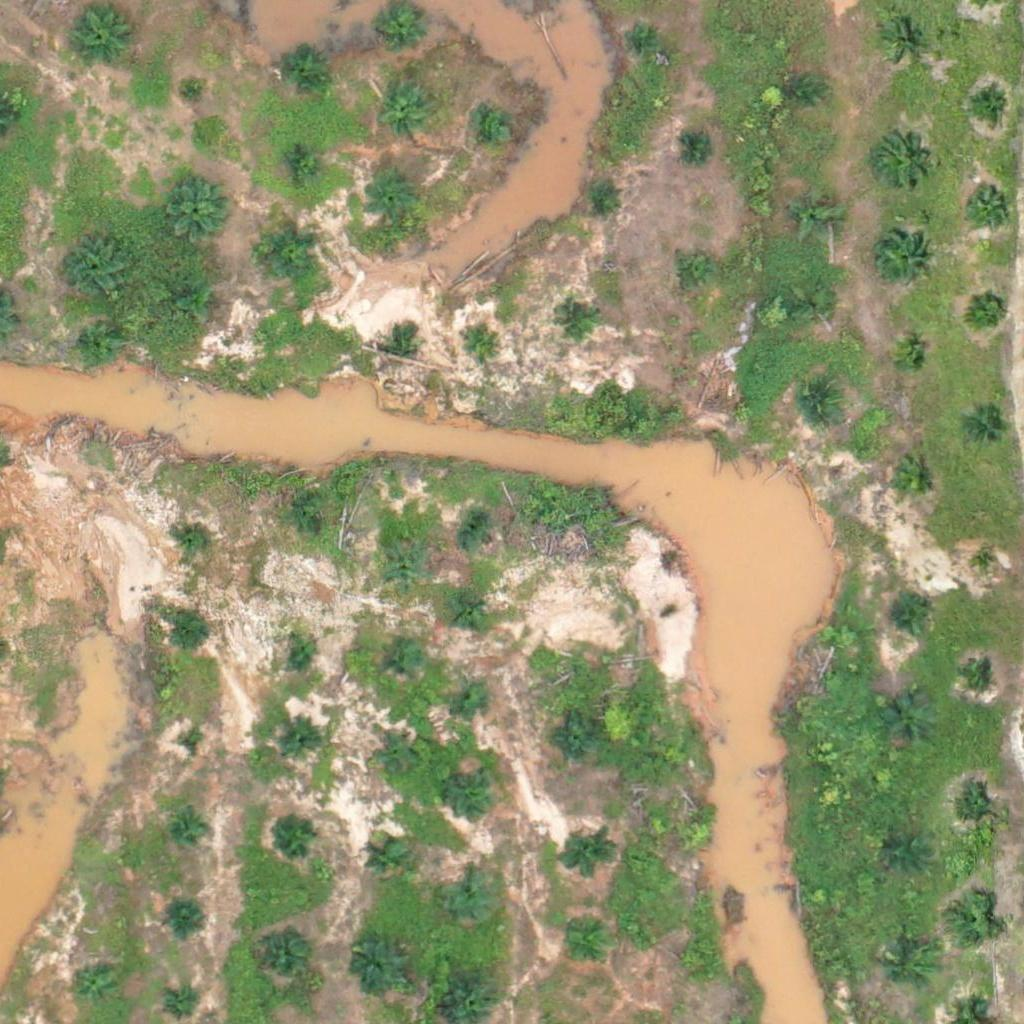Kelapa_Sawit: (344, 933, 407, 996), (441, 869, 504, 932), (70, 6, 133, 68), (162, 173, 225, 235), (872, 229, 934, 292), (68, 232, 130, 295), (263, 224, 325, 286), (376, 3, 426, 54), (875, 132, 925, 183), (888, 456, 938, 507), (791, 189, 841, 240), (260, 930, 310, 981), (272, 811, 322, 862), (449, 767, 499, 817), (274, 42, 324, 92), (381, 87, 431, 137), (367, 173, 417, 223), (950, 788, 1000, 838), (948, 897, 998, 947), (562, 831, 612, 881), (560, 921, 610, 971), (884, 696, 934, 746), (553, 716, 603, 766), (964, 179, 1014, 229), (74, 316, 124, 366), (162, 279, 212, 329), (886, 947, 936, 997), (671, 940, 709, 978), (677, 815, 715, 853), (888, 597, 926, 635), (781, 74, 819, 112), (286, 144, 324, 182), (175, 519, 213, 557), (169, 905, 207, 943), (163, 985, 201, 1023), (287, 633, 325, 671), (455, 675, 493, 713), (455, 588, 493, 626), (454, 513, 492, 551), (474, 111, 511, 149), (891, 341, 929, 378), (888, 835, 925, 873), (969, 85, 1006, 123), (887, 18, 924, 56), (681, 129, 719, 166), (557, 304, 594, 342), (798, 287, 836, 324), (971, 289, 1008, 327), (176, 69, 213, 107), (461, 328, 498, 366), (165, 614, 203, 651), (174, 730, 212, 767), (171, 814, 209, 851), (283, 717, 321, 754), (298, 513, 335, 551), (383, 550, 420, 588), (388, 642, 425, 680), (378, 738, 415, 776), (76, 962, 113, 1000), (967, 413, 1004, 450), (799, 385, 836, 422), (579, 177, 616, 214), (676, 255, 713, 292), (627, 20, 664, 57), (369, 842, 406, 879), (384, 334, 409, 360), (973, 552, 998, 577), (967, 664, 992, 689)
